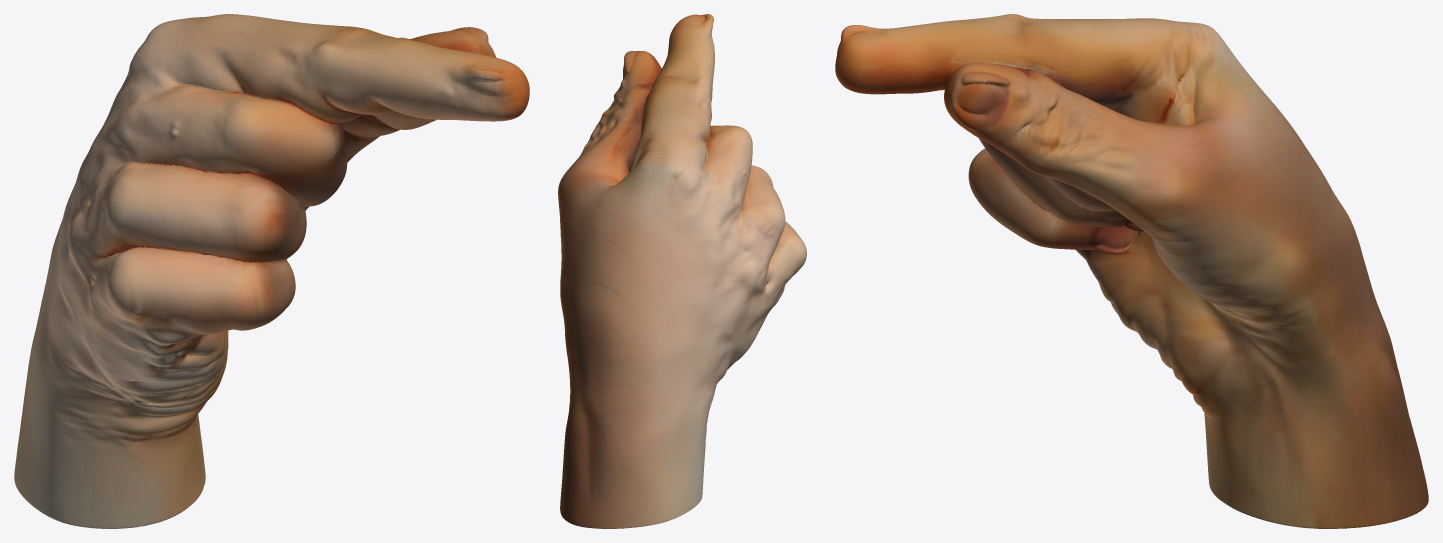
Rendered from letter_G.glb.
3 views of the same model, side by side, from view 1: azimuth 30°, elevation 25°; view 2: azimuth 150°, elevation 25°; view 3: azimuth 270°, elevation 25° (orthographic). The views are drawn at different scales.
Visible parts, largest first — view 1: tripo_node_8aba05d9-474f-4ac3-9509-53a9894e9c9f; view 2: tripo_node_8aba05d9-474f-4ac3-9509-53a9894e9c9f; view 3: tripo_node_8aba05d9-474f-4ac3-9509-53a9894e9c9f.
Part boxes in pixels (<box>): tripo_node_8aba05d9-474f-4ac3-9509-53a9894e9c9f: <box>14,14,529,528</box>; tripo_node_8aba05d9-474f-4ac3-9509-53a9894e9c9f: <box>558,14,806,528</box>; tripo_node_8aba05d9-474f-4ac3-9509-53a9894e9c9f: <box>835,14,1428,528</box>.
Bounding box in the file's own units: 0.601 × 0.9669 × 1.
Materials: 1 (1 with a texture image).
